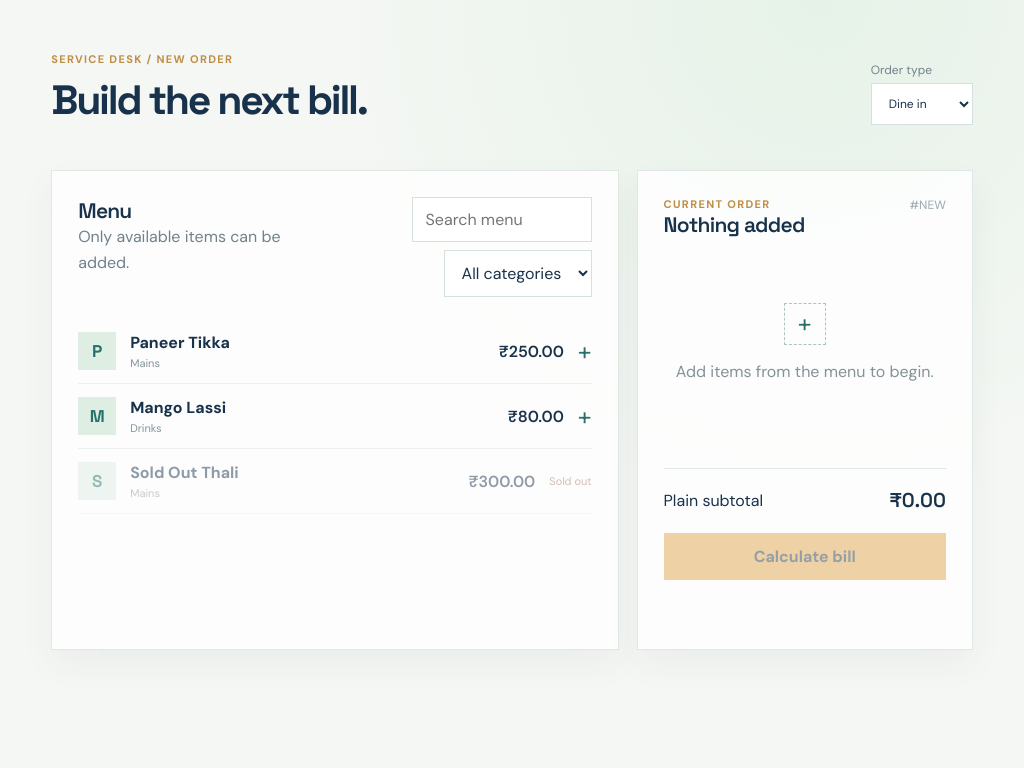
Test case: NewOrder › renders menu availability and filters by category
Check: the text "Paneer Tikka" is shown, box [130, 332, 230, 353]
Check: the text "Sold out" is shown, box [549, 474, 592, 488]
Select "Drinks" in the dropdown named "Filter menu by category" at (518, 274), box [444, 250, 592, 297]
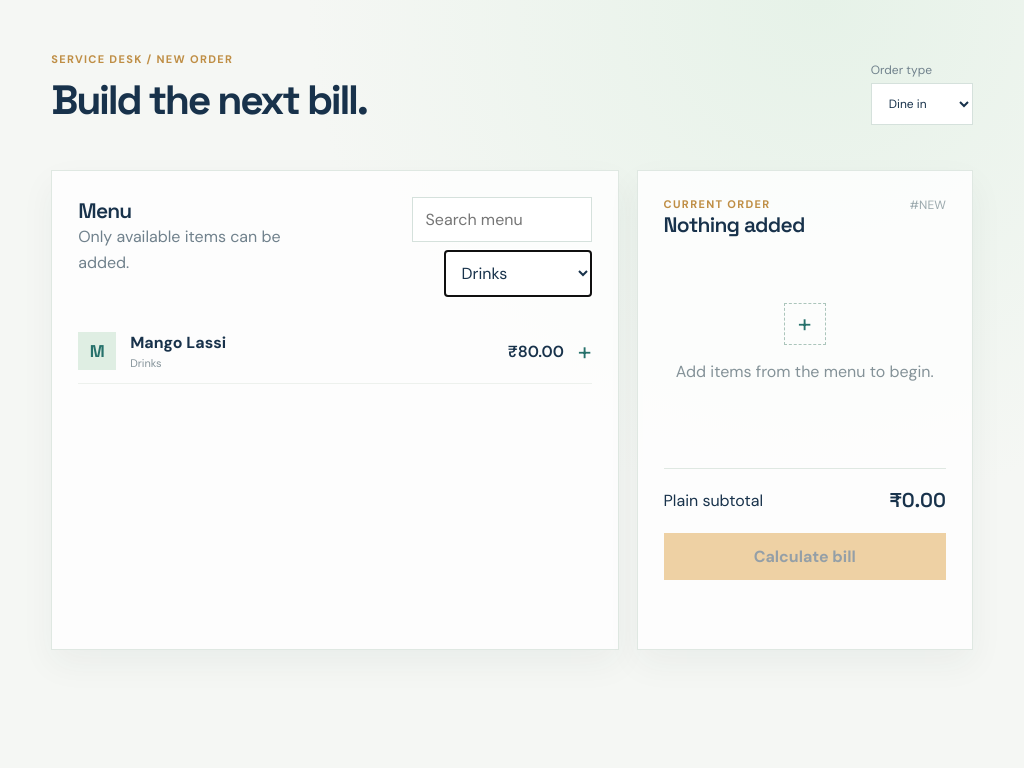
Check: the text "Mango Lassi" is shown, box [130, 332, 226, 353]
Check: the button "Paneer Tikka" is gone
